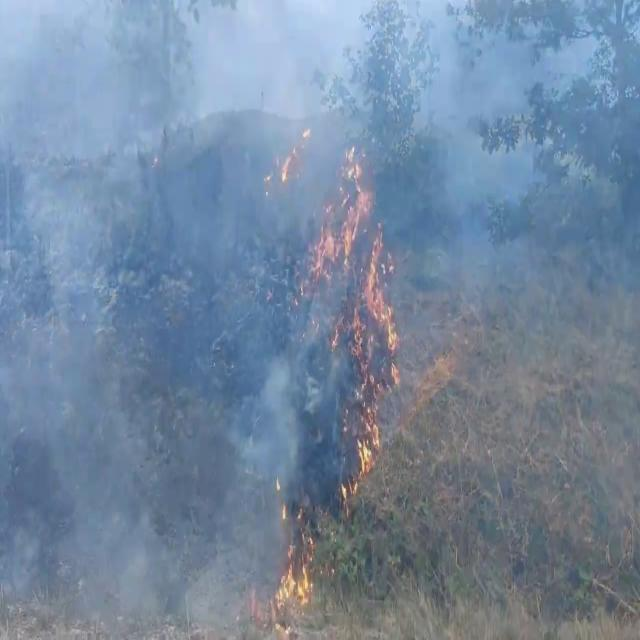Fire: (301, 135, 403, 440), (268, 522, 320, 632)
Smoke: (0, 0, 299, 613)
